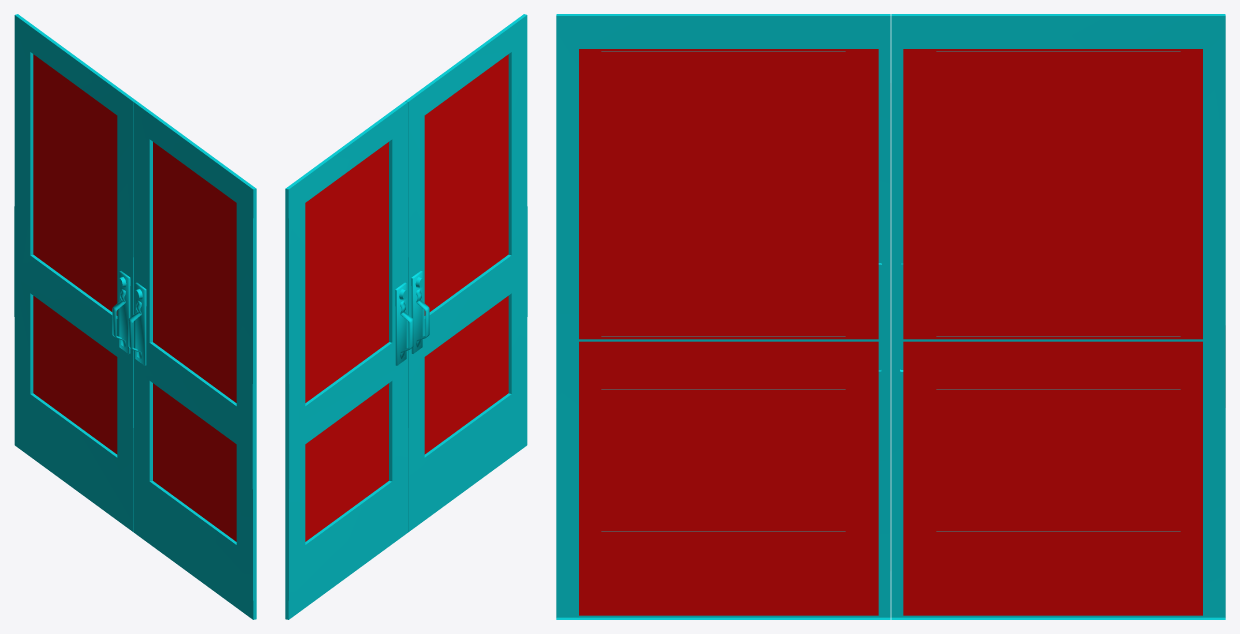
Rendered from Cinema_Door_01.fbx.
The picture shows the model from 3 angles, left to right: view 1: azimuth 30°, elevation 25°; view 2: azimuth 150°, elevation 25°; view 3: azimuth 270°, elevation 25°; orthographic projection. The views are drawn at different scales.
Parts seen in each view (by area): view 1: Object020.001; view 2: Object020.001; view 3: Object020.001.
Part boxes in pixels (x1,y1,x2,y2): Object020.001: (14, 14, 256, 619); Object020.001: (285, 14, 527, 619); Object020.001: (556, 14, 1225, 619).
Bounding box in the file's own units: 6.8 × 183 × 184.
